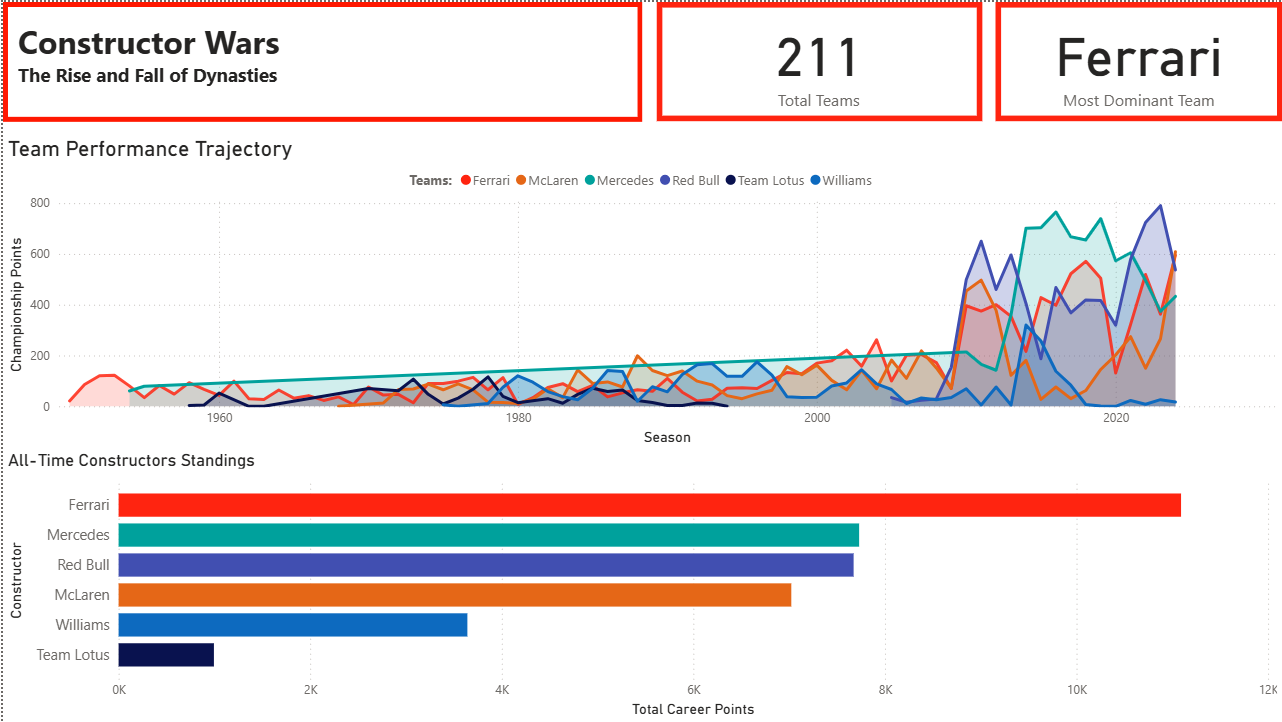

What the dashboard file says about the page in this screenshot:
{"tool":"powerbi","page":{"name":"The Machine","canvas":[1280,720],"ordinal":1},"visuals":[{"type":"shape","box":[0,0,639.5,119.8],"z":0},{"type":"textbox","box":[9.8,12.2,617.5,97.8],"z":1000},{"type":"areaChart","title":"Team Performance Trajectory","fields":{"Category":["Constructor_dominance.season"],"Y":["Sum(Constructor_dominance.total_points)"],"Series":["Constructor_dominance.team_name"]},"box":[0,133.3,1280.3,314.3],"z":2000},{"type":"clusteredBarChart","title":"All-Time Constructors Standings","fields":{"Y":["Sum(Constructor_dominance.total_points)"],"Category":["Constructor_dominance.team_name"]},"box":[0,447.6,1280.3,272.7],"z":3000},{"type":"card","fields":{"Values":["Count(Constructor_dominance.team_name)"]},"box":[653.2,0,325.2,119.4],"z":4000},{"type":"card","fields":{"Values":["Min(Constructor_dominance.team_name)"]},"box":[992.1,0,288.2,119.4],"z":5000}]}

Visuals, with their boxes in screenshot pixels (x1, y1, x2, y2), scaled from the page's 1280x720 canvas onto the 1282x722 screenshot:
shape: select_region(0, 0, 640, 120)
textbox: select_region(10, 12, 628, 110)
"Team Performance Trajectory" areaChart: select_region(0, 134, 1281, 449)
"All-Time Constructors Standings" clusteredBarChart: select_region(0, 449, 1281, 721)
card - Count(Constructor_dominance.team_name): select_region(654, 0, 980, 120)
card - Min(Constructor_dominance.team_name): select_region(994, 0, 1281, 120)
